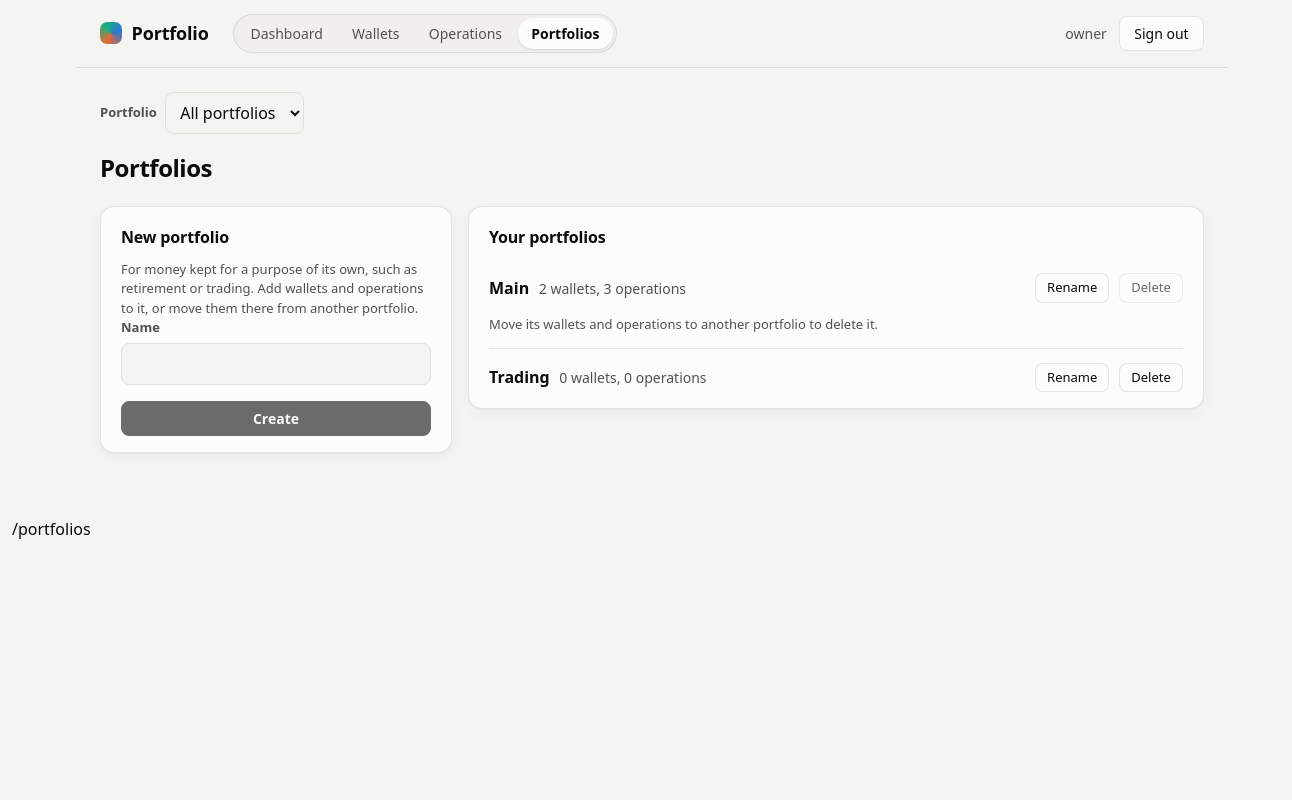
the Portfolios page › shows why a rename or a delete was refused
This screenshot has width=1292, height=800.
Step 1. Click the button with aria-label "Rename Trading" → (1072, 377), box left=1035, top=362, right=1110, bottom=392
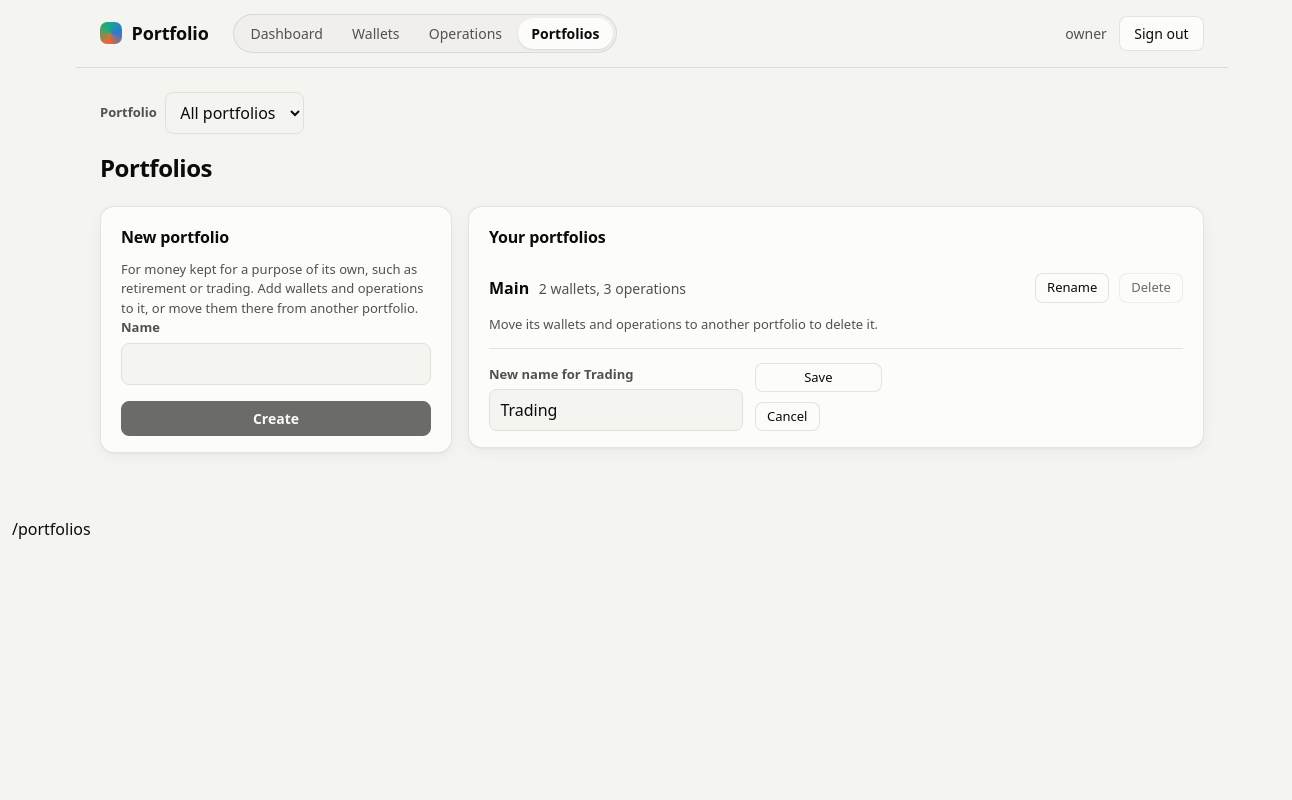
Step 2. Replace the text in the field labelled "New name for Trading" with "Main" → (616, 410), box left=489, top=389, right=743, bottom=431
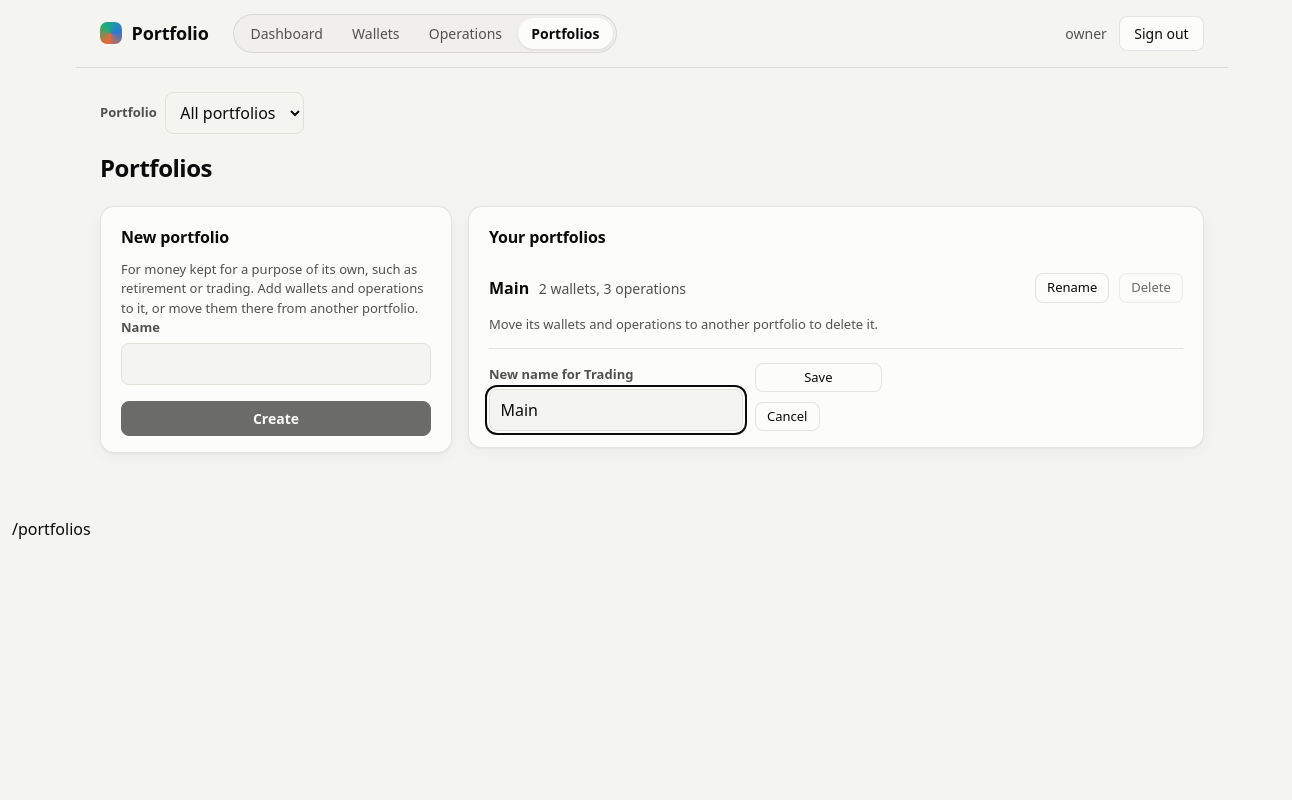
Step 3. Click the button "Save" → (818, 377), box left=755, top=362, right=882, bottom=392
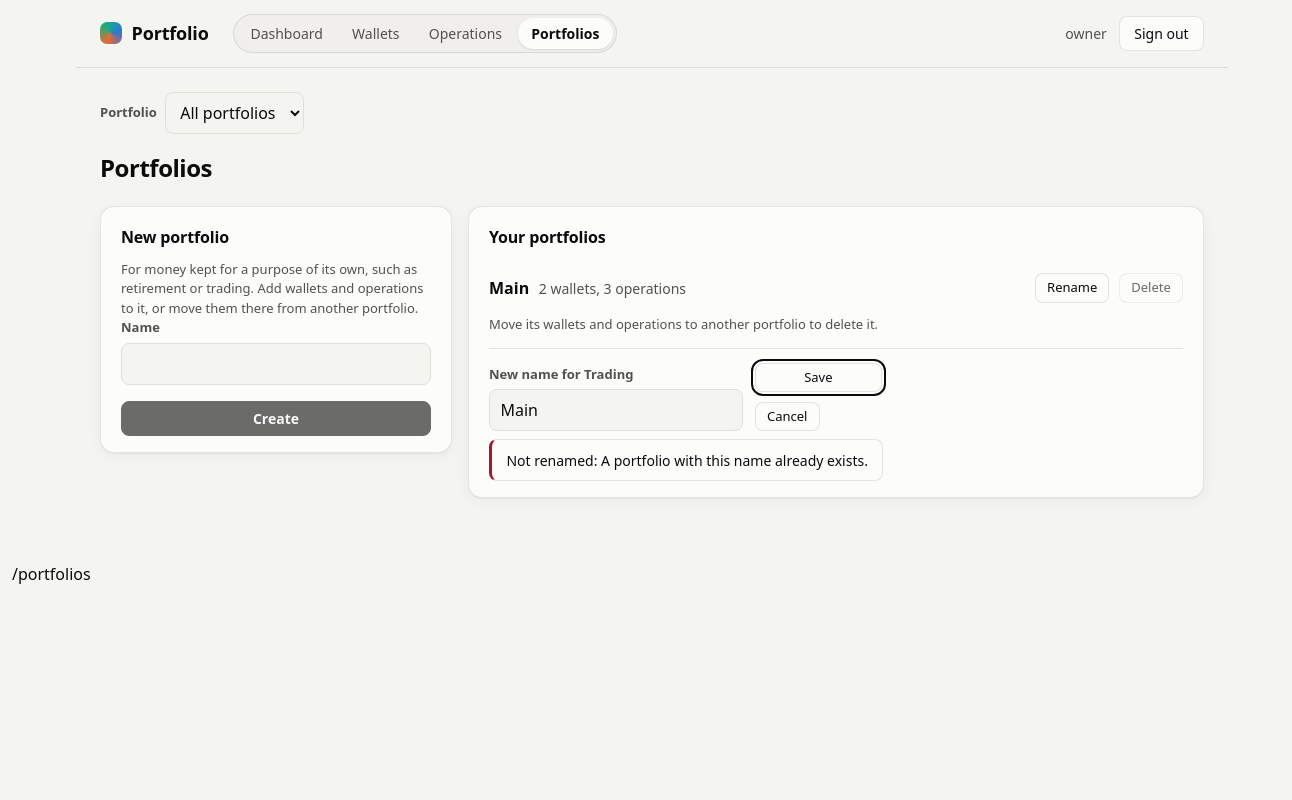
Step 4. Click the button "Cancel" → (787, 416), box left=755, top=402, right=820, bottom=431
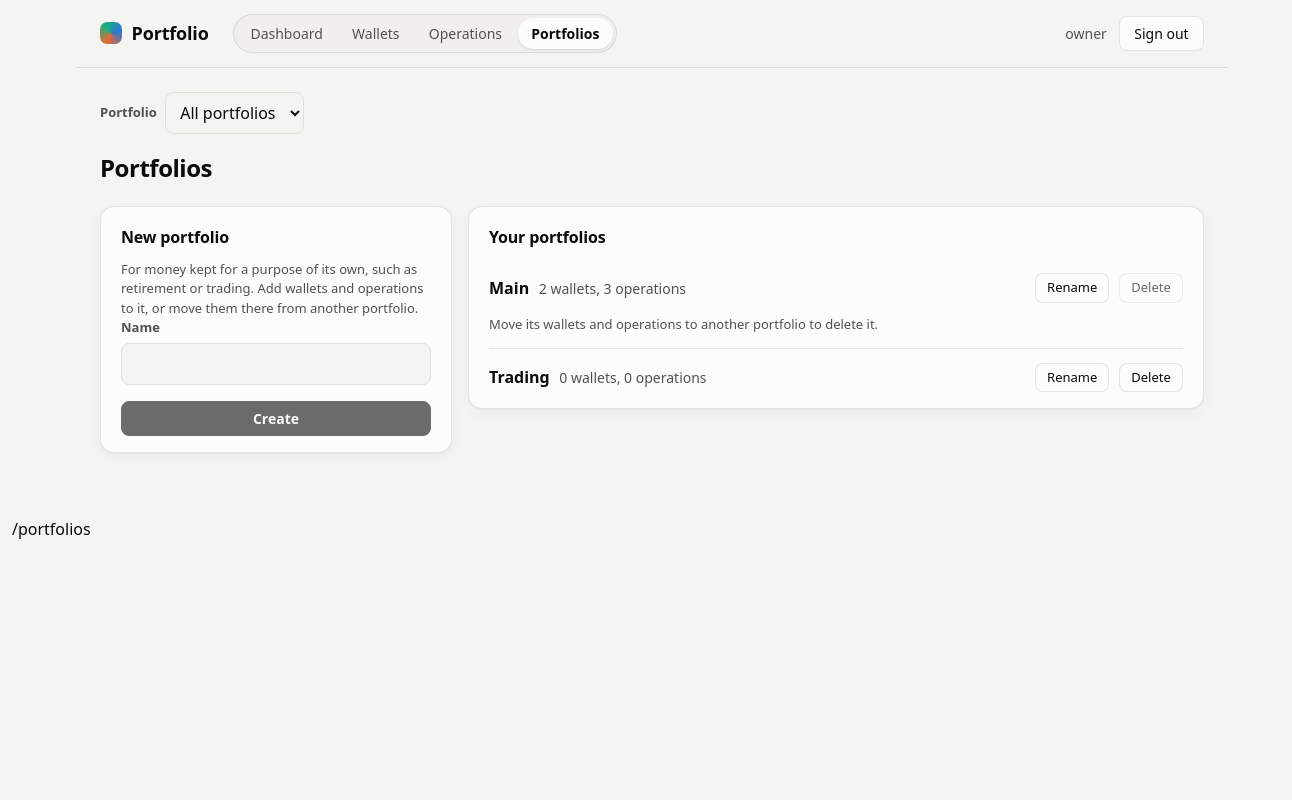
Step 5. Click the button with aria-label "Delete Trading" → (1151, 377), box left=1119, top=362, right=1183, bottom=392
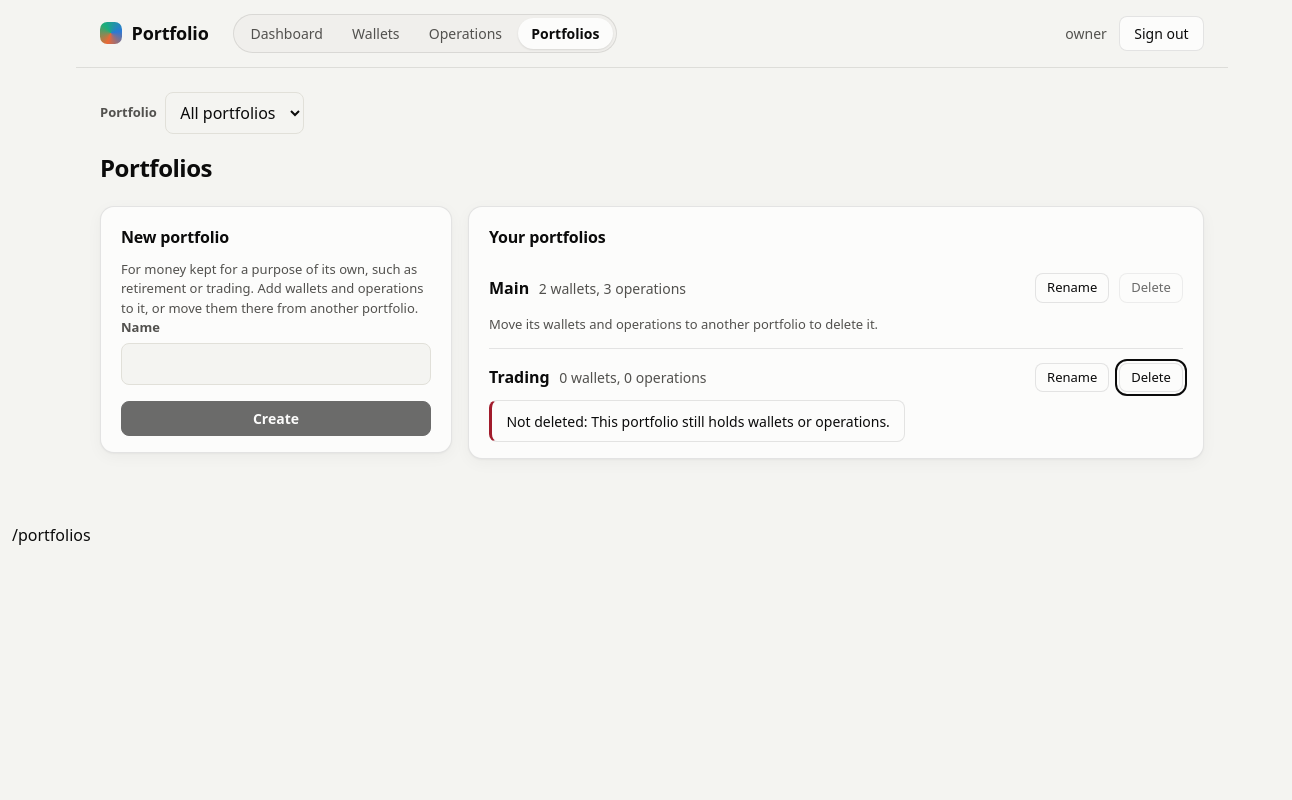
Expected: the message reads "Not deleted: This portfolio still holds wallets or operations.", left=489, top=400, right=905, bottom=442
